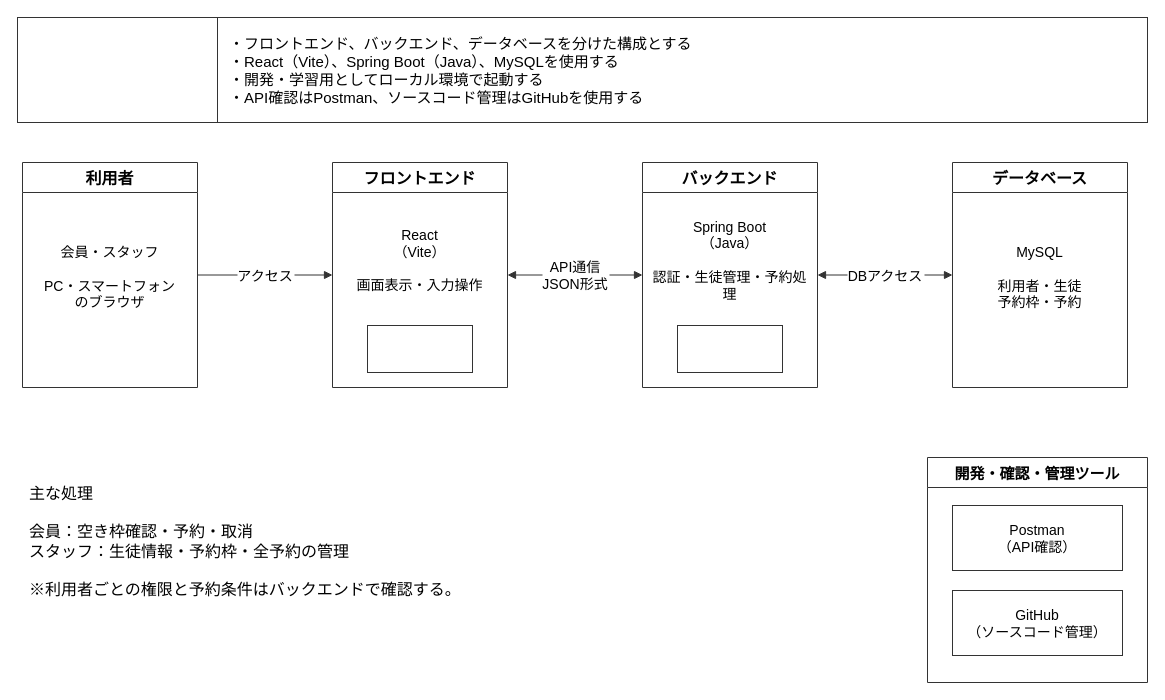
The diagram is 1165 pixels wide and 700 high, and some of its shapes have lost their labels. Each missing label, with the centre of its shape:
システム構成図: point 117,69
開発環境 IDE: point 729,348
開発環境 VS Code: point 419,348
